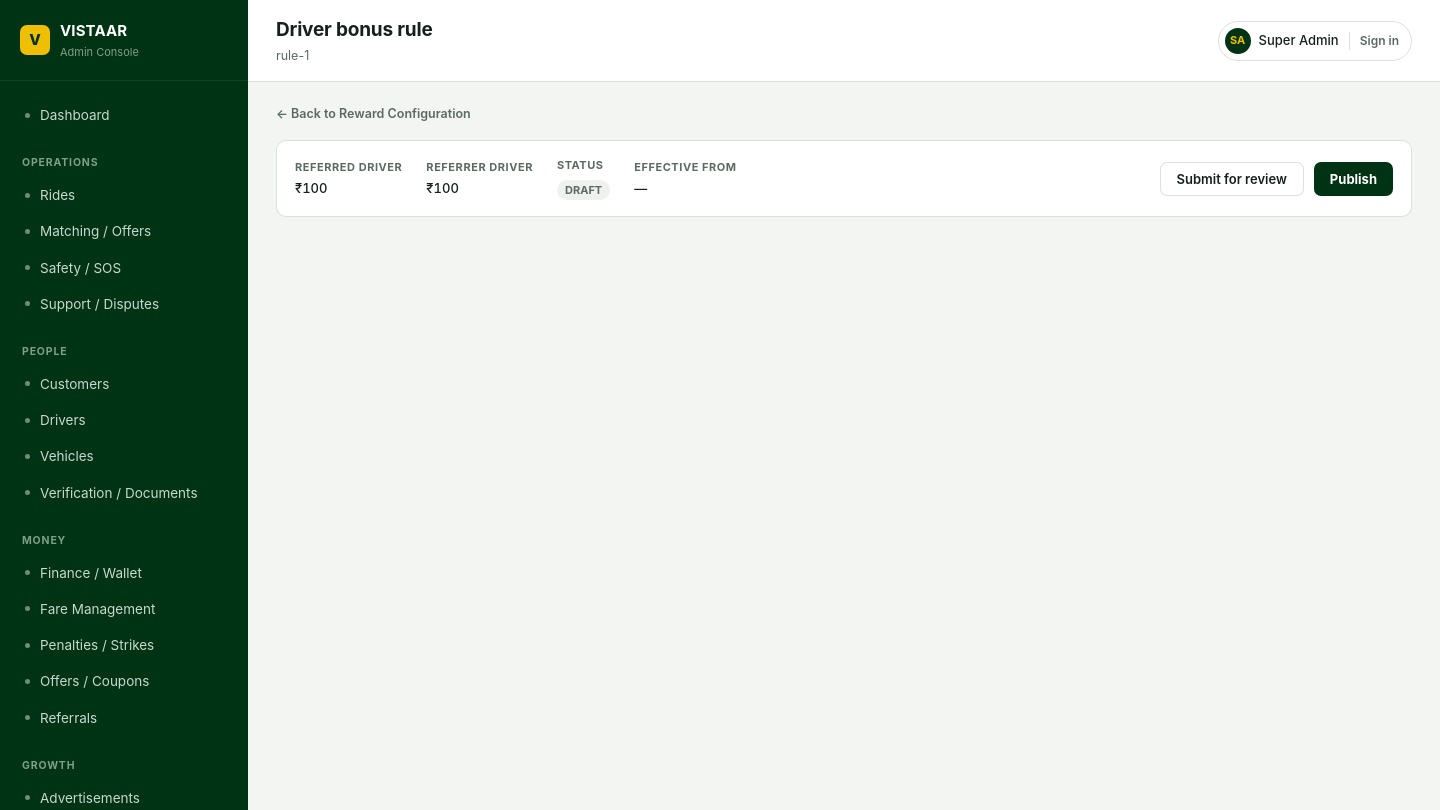
Test: DriverBonusRuleDetailPage › submits for review
Click the button "Submit for review".
click(1232, 178)  # box [1160, 162, 1304, 196]
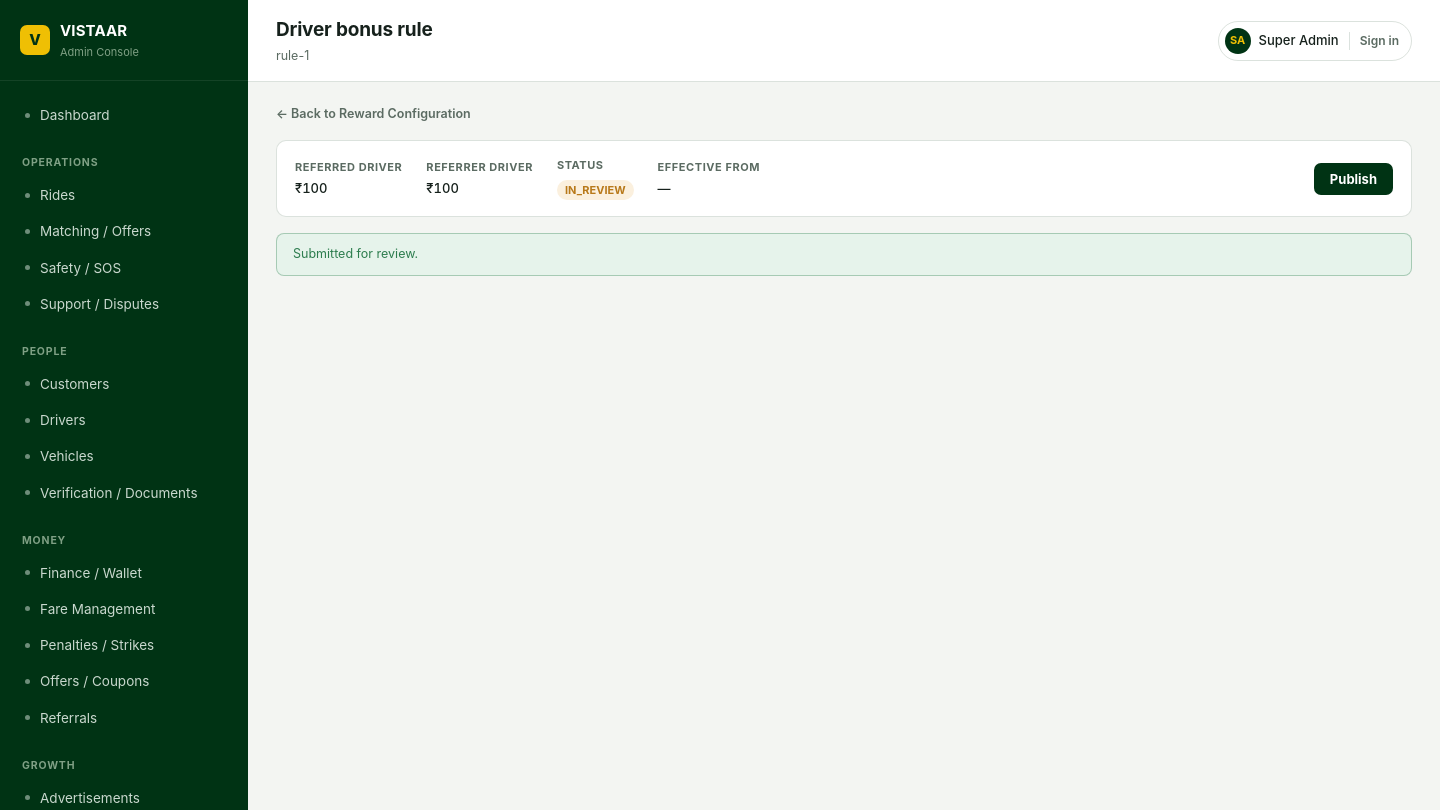
Now the text "Submitted for review." is shown, box [276, 233, 1412, 276]
